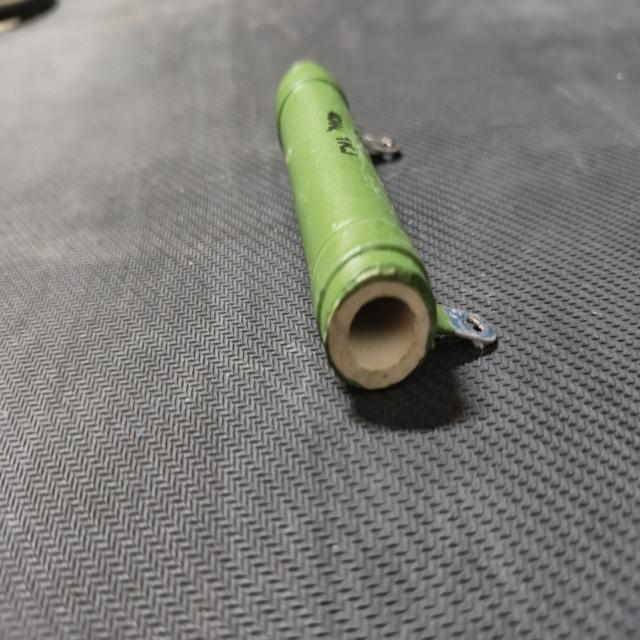resistor: (270, 56, 508, 402)
